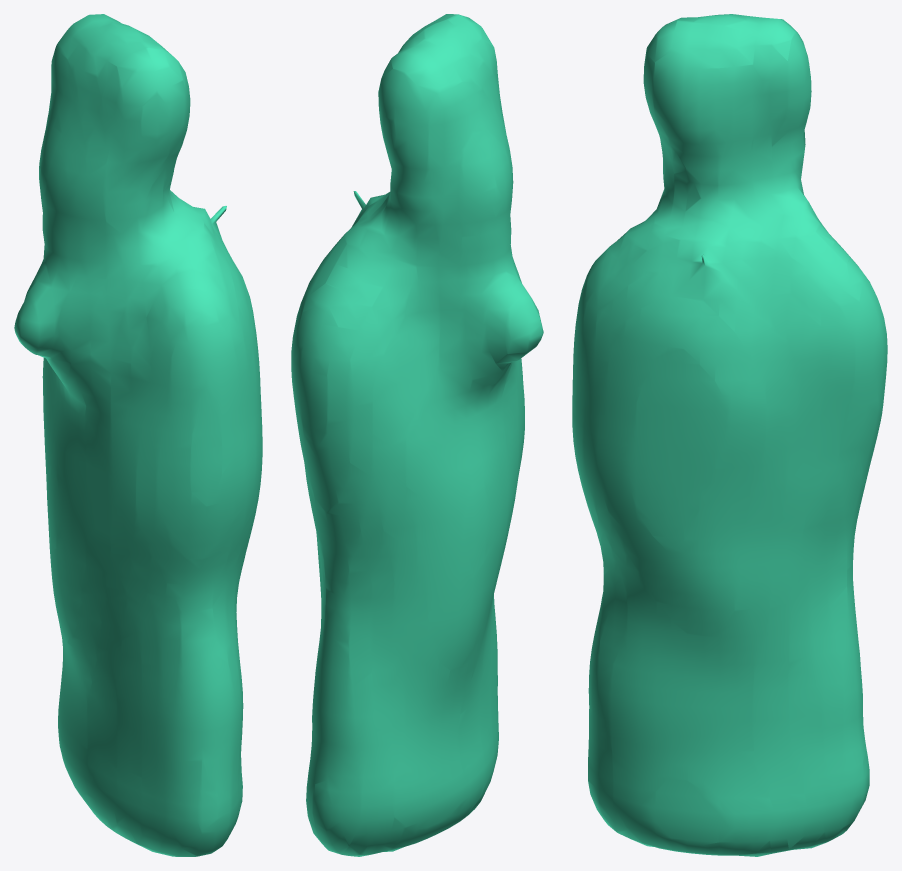
The picture shows the model from 3 angles, left to right: view 1: azimuth 30°, elevation 25°; view 2: azimuth 150°, elevation 25°; view 3: azimuth 270°, elevation 25°; orthographic projection.
Visible parts, largest first — view 1: Liquid_Domain; view 2: Liquid_Domain; view 3: Liquid_Domain.
Part boxes in pixels (<box>): Liquid_Domain: <box>14,14,262,856</box>; Liquid_Domain: <box>291,14,543,856</box>; Liquid_Domain: <box>572,14,887,856</box>.
Size of the model in its own units: 2.15 by 7.61 by 2.7.
